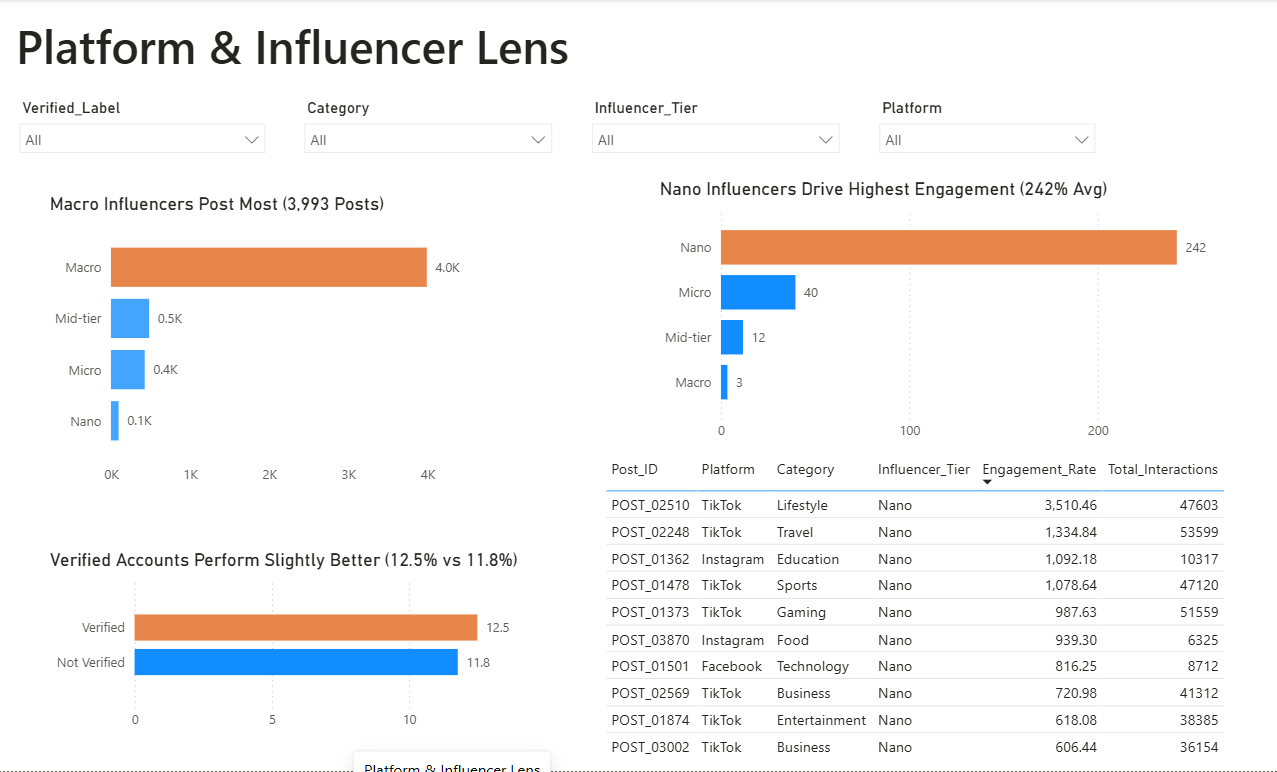

Layout of this report page (visuals, bound fields, positions):
{"tool":"powerbi","page":{"name":"Platform & Influencer Lens","canvas":[1280,720],"ordinal":2},"visuals":[{"type":"barChart","title":"Macro Influencers Post Most (3,993 Posts)","fields":{"Category":["posts.Influencer_Tier"],"Y":["CountNonNull(posts.Post_ID)"]},"box":[111.6,166.3,474.4,253.5],"z":0},{"type":"barChart","title":"Nano Influencers Drive Highest Engagement (242% Avg)","fields":{"Category":["posts.Influencer_Tier"],"Y":["posts.Avg Engagement Rate"]},"box":[648.8,166.3,619.8,253.5],"z":1000},{"type":"clusteredBarChart","title":"Verified Accounts Perform Slightly Better (12.5% vs 11.8%)","fields":{"Category":["posts.Verified_Label"],"Y":["posts.Avg Engagement Rate"]},"box":[111.6,440.7,474.4,268.6],"z":2000},{"type":"tableEx","fields":{"Values":["posts.Post_ID","posts.Platform","posts.Category","posts.Influencer_Tier","posts.Engagement_Rate","posts.Total_Interactions"]},"box":[648.8,440.7,619.8,268.6],"z":3000},{"type":"textbox","box":[101.2,9.3,547.7,68.6],"z":4000},{"type":"slicer","fields":{"Values":["posts.Platform"]},"box":[898.7,87.2,221.2,64],"z":5000},{"type":"slicer","fields":{"Values":["posts.Category"]},"box":[364.4,87.2,250.5,64],"z":6000},{"type":"slicer","fields":{"Values":["posts.Influencer_Tier"]},"box":[631.5,87.2,250.5,64],"z":7000},{"type":"slicer","fields":{"Values":["posts.Verified_Label"]},"box":[98.6,87.2,249.1,64],"z":8000}]}

Visuals, with their boxes on the page's 1280x720 design canvas (x1, y1, x2, y2). These are canvas units, not pixel positions in the 1277x772 screenshot, which may show the page scaled, cropped or inside an application window:
"Macro Influencers Post Most (3,993 Posts)" barChart: [112,166,586,420]
"Nano Influencers Drive Highest Engagement (242% Avg)" barChart: [649,166,1269,420]
"Verified Accounts Perform Slightly Better (12.5% vs 11.8%)" clusteredBarChart: [112,441,586,709]
tableEx - posts.Post_ID x posts.Platform: [649,441,1269,709]
textbox: [101,9,649,78]
slicer - posts.Platform: [899,87,1120,151]
slicer - posts.Category: [364,87,615,151]
slicer - posts.Influencer_Tier: [632,87,882,151]
slicer - posts.Verified_Label: [99,87,348,151]
